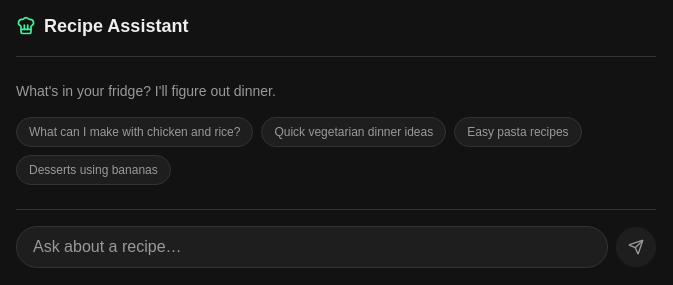
Scenario: AssistantPage › first-run empty state › clicking a chip copies its text into the input field
Click the button "Easy pasta recipes": (518, 132) [454, 117, 582, 147]
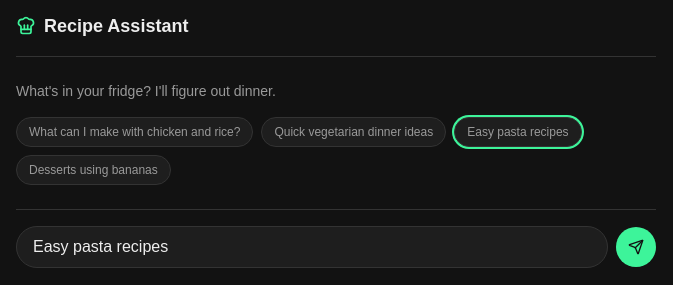
expect the field holds "Easy pasta recipes": met, box [16, 226, 608, 268]
